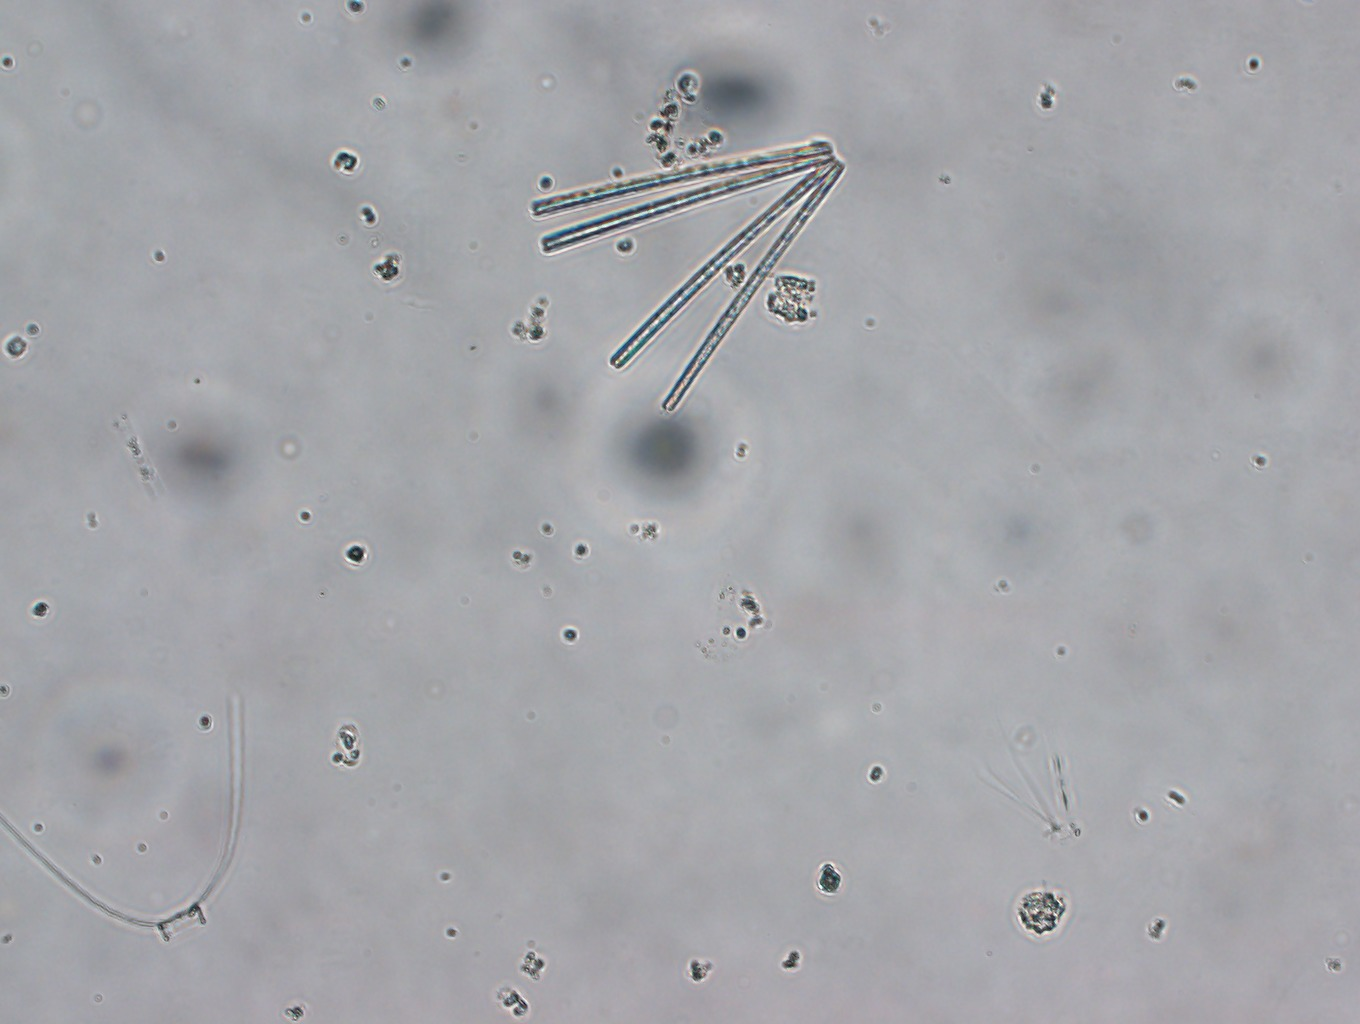chaetoceros: (1, 691, 262, 945)
thalassionema frauenfeldii: (512, 118, 849, 415)
